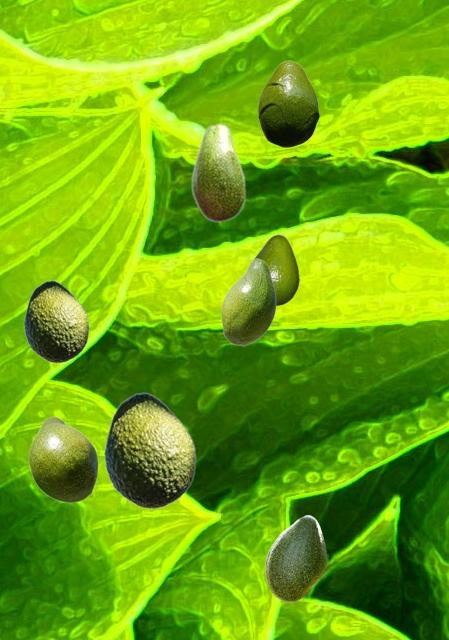avocado: (103, 392, 195, 508), (28, 416, 97, 502), (191, 122, 245, 222), (23, 280, 88, 362), (265, 515, 325, 601), (258, 60, 318, 146), (221, 258, 275, 345), (253, 234, 298, 304)
